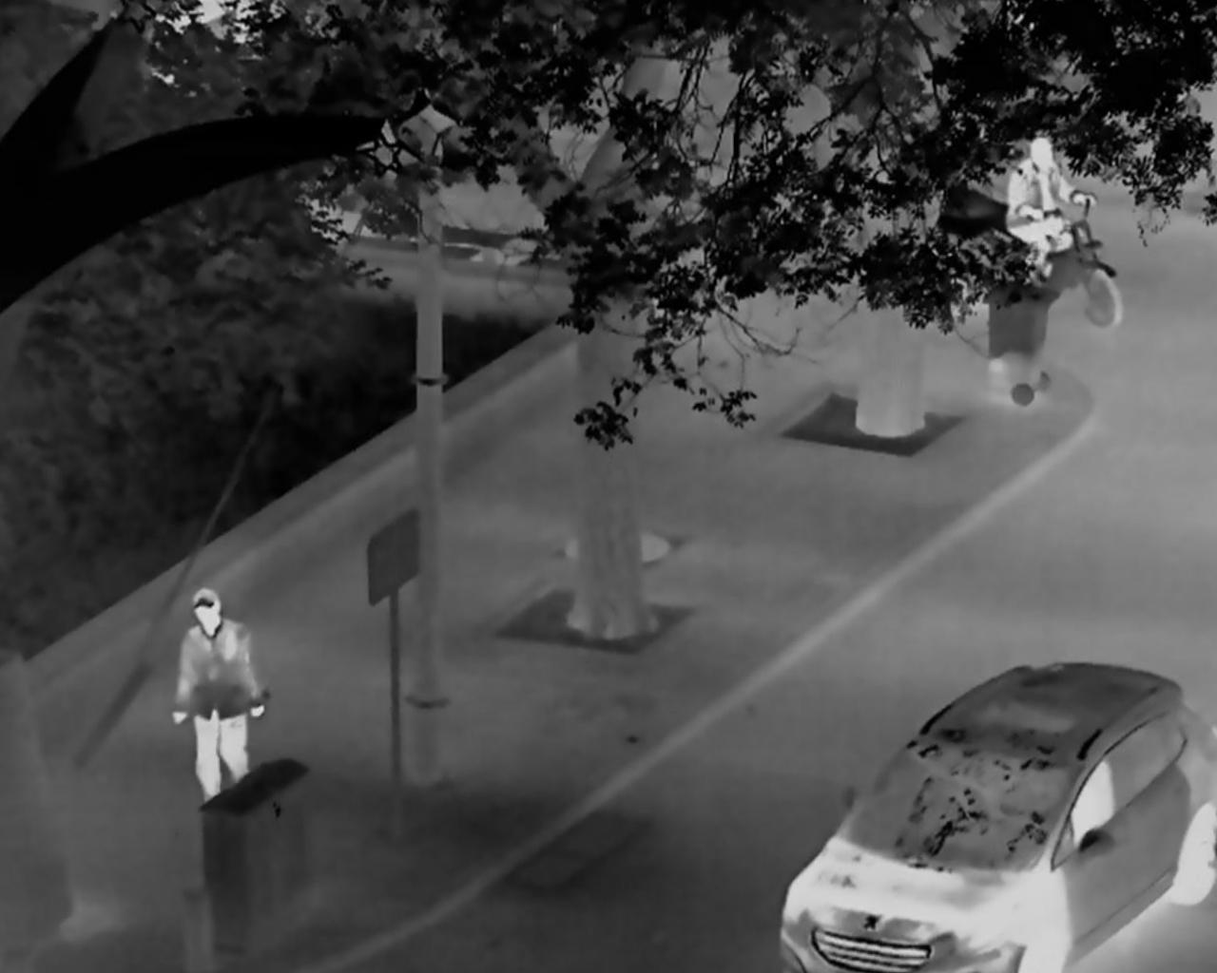person: (171, 587, 268, 805), (1002, 130, 1100, 280)
